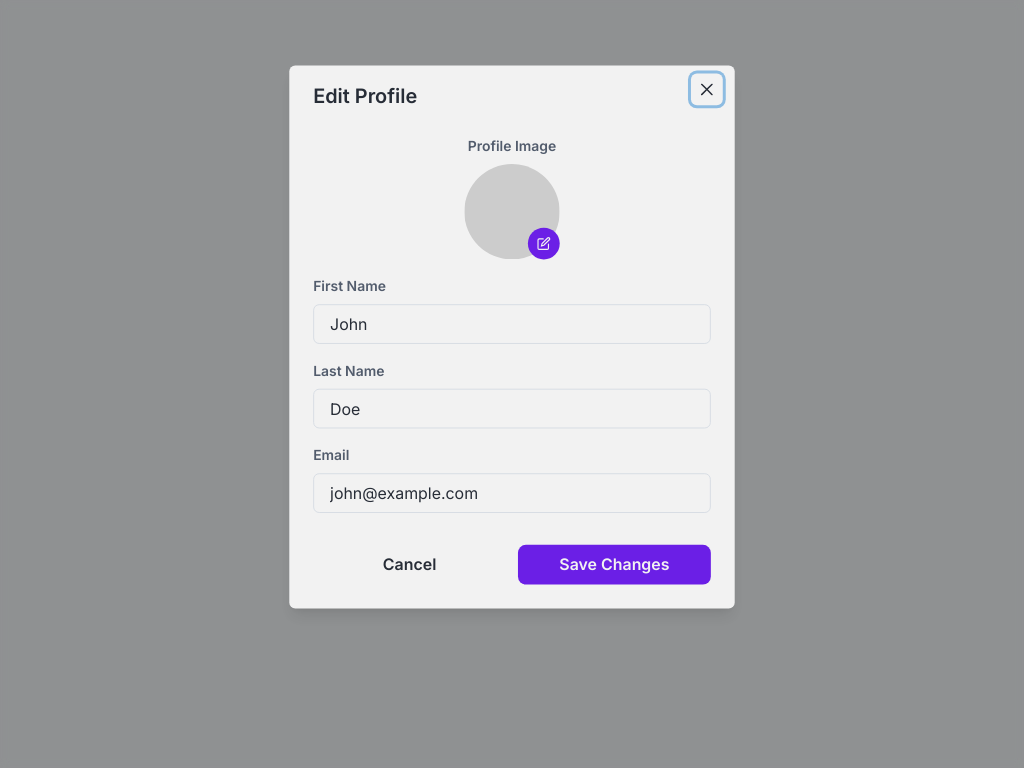
EditProfileModal › disables save button when email is empty
Clear the field with placeholder "Enter email" below "Email" at (512, 493), box [313,473,711,513]
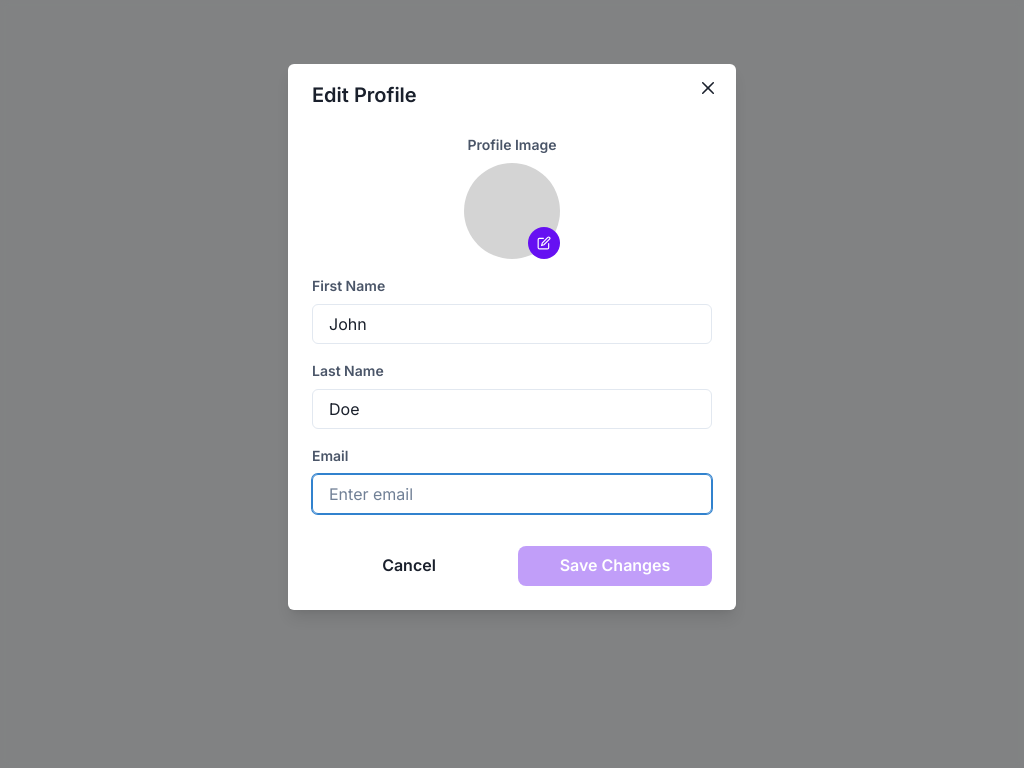
expect the button "Save Changes" is disabled: met, box [518,546,712,586]
